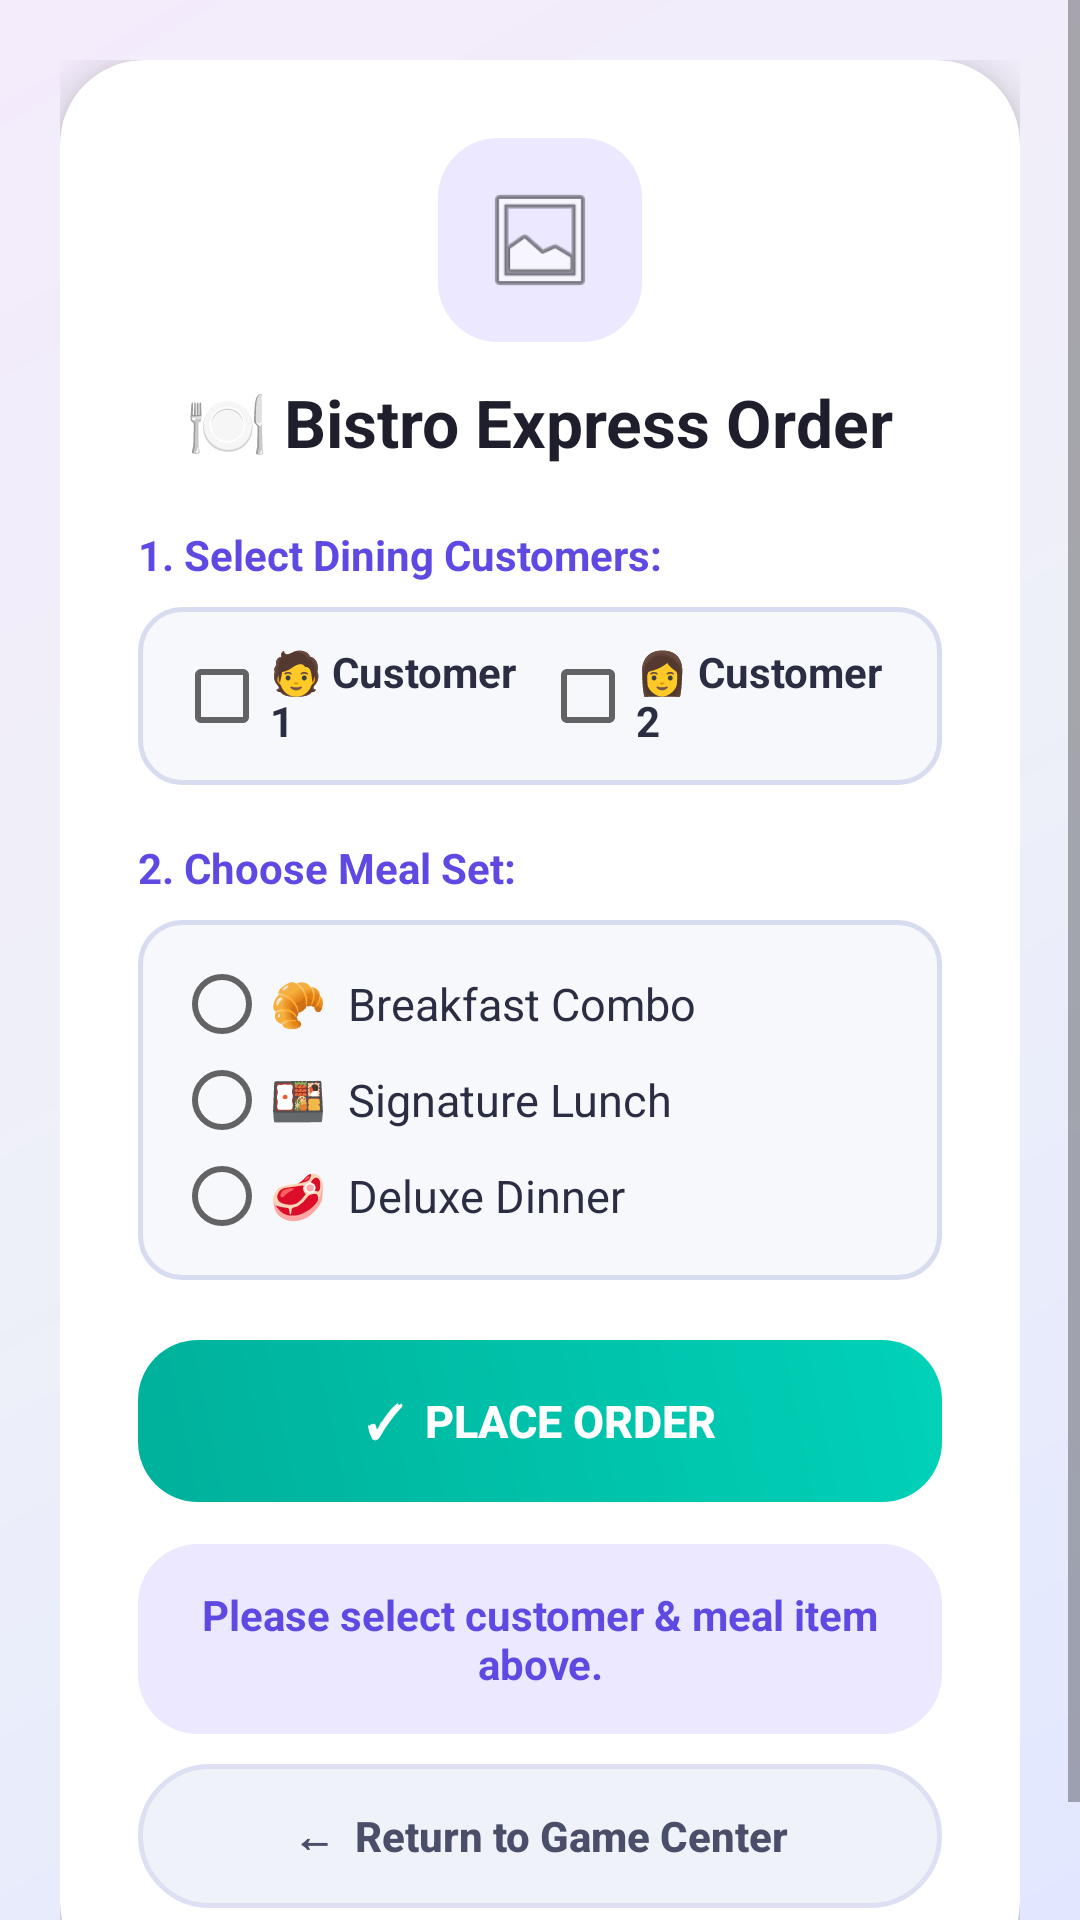

Screen size 1080px x 1920px. Icon name, then its box in pixels as box=[x1, y1, x2, y2]:
gallery: box=[438, 138, 642, 342]
